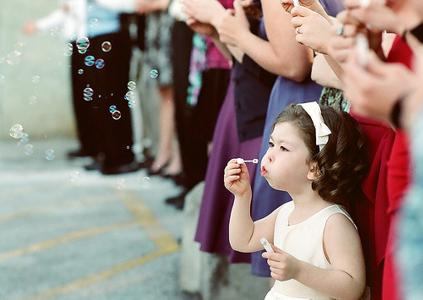person: (223, 101, 372, 299)
